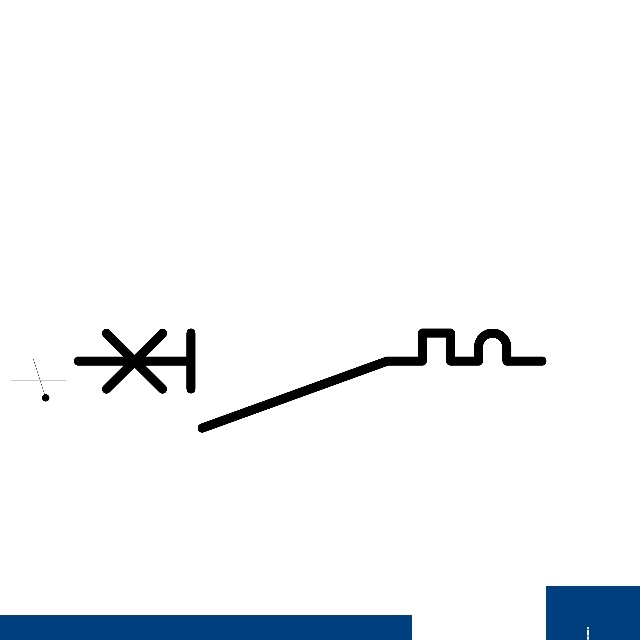interruptor_termomagnetico: (66, 321, 554, 440)
